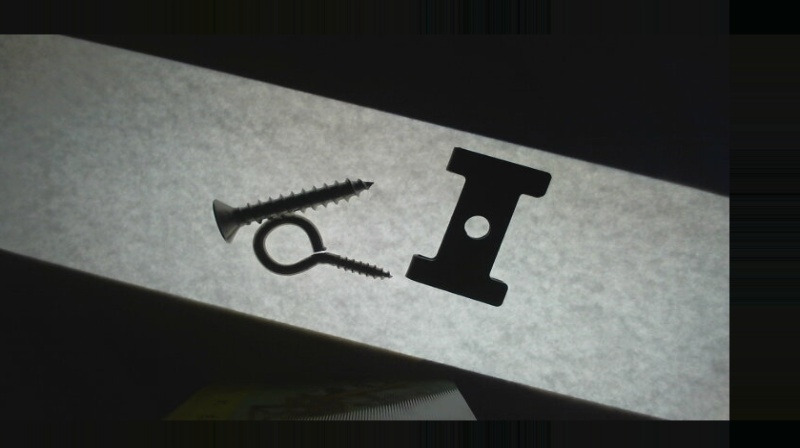O001: (251, 212, 394, 281)
O002: (403, 144, 553, 308)
S001: (210, 177, 377, 246)
